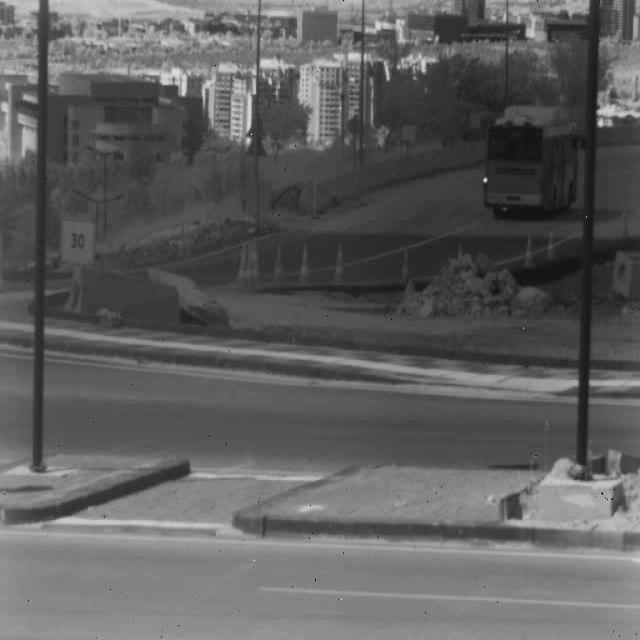Bus: (482, 106, 578, 218)
